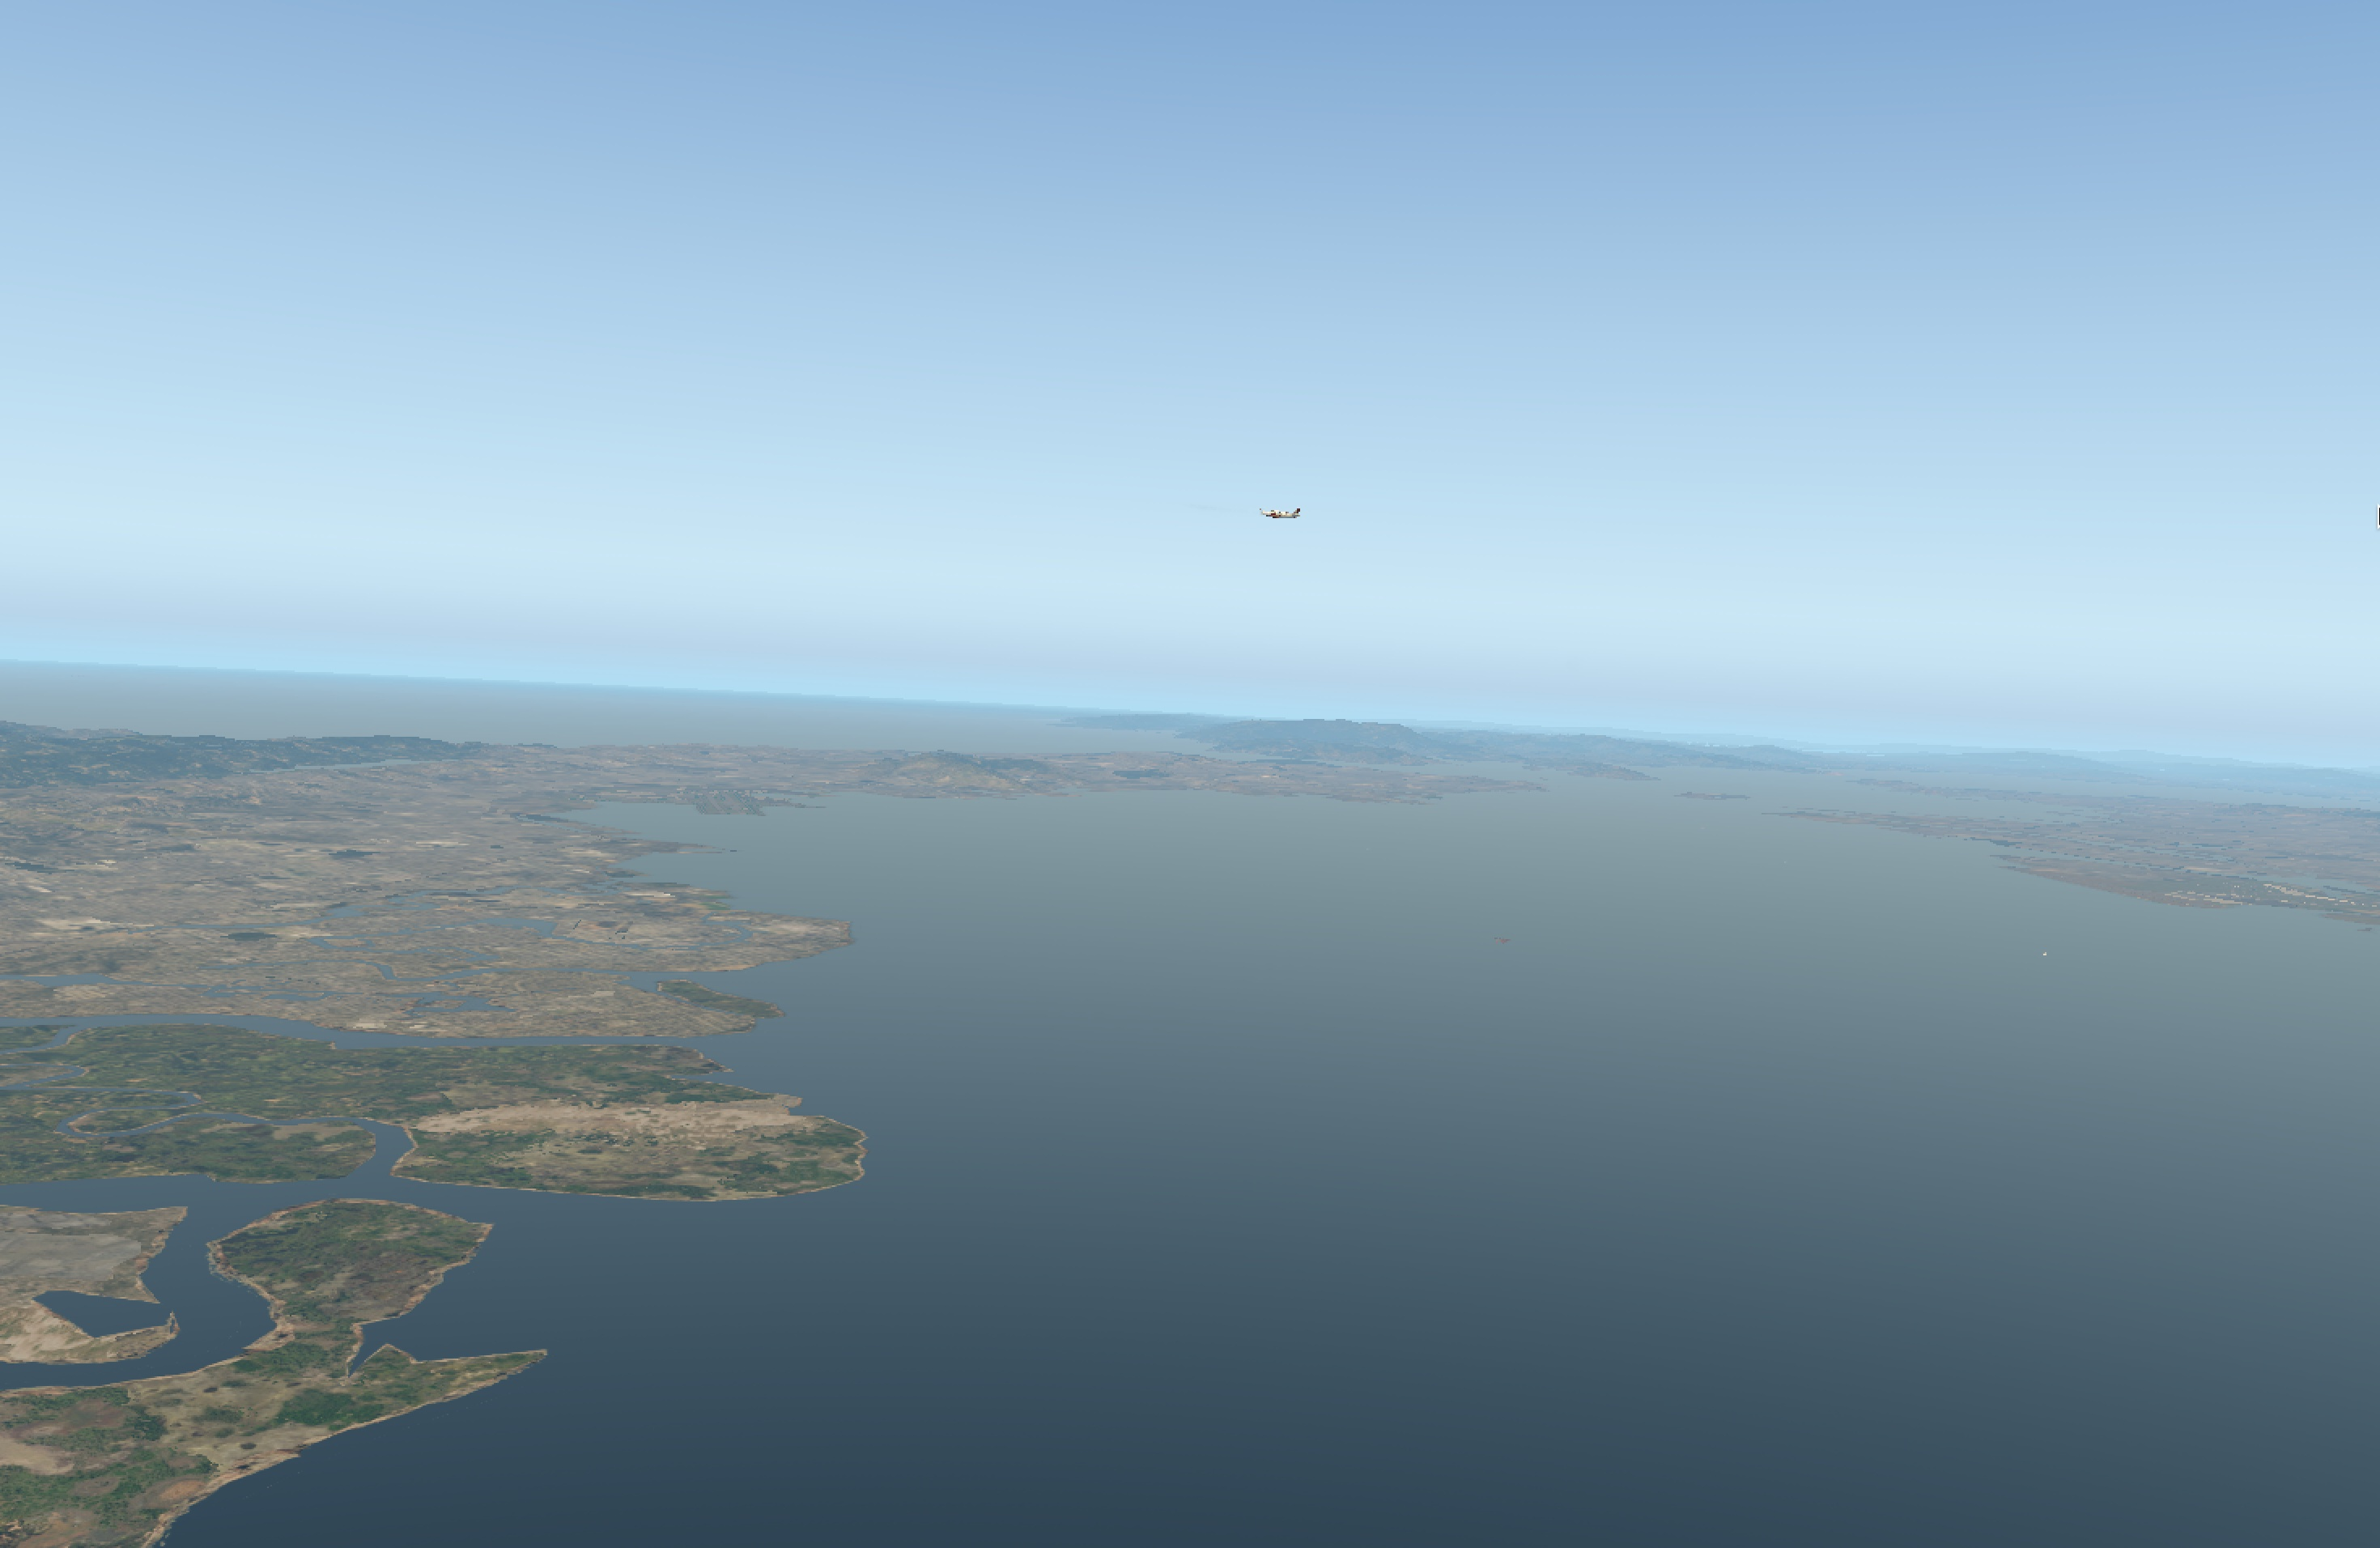aircraft: (1244, 505, 1306, 528)
